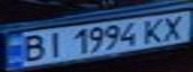1: (66, 26, 90, 54)
4: (118, 20, 142, 47)
9: (84, 25, 109, 53), (103, 22, 124, 51)
B: (15, 32, 51, 63)
I: (39, 29, 69, 60)
K: (136, 16, 172, 44)
X: (157, 12, 193, 41)
